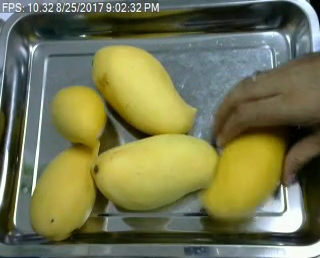Mango: (85, 131, 226, 208), (92, 44, 197, 135), (204, 120, 292, 220), (29, 138, 100, 245), (50, 86, 107, 150)
